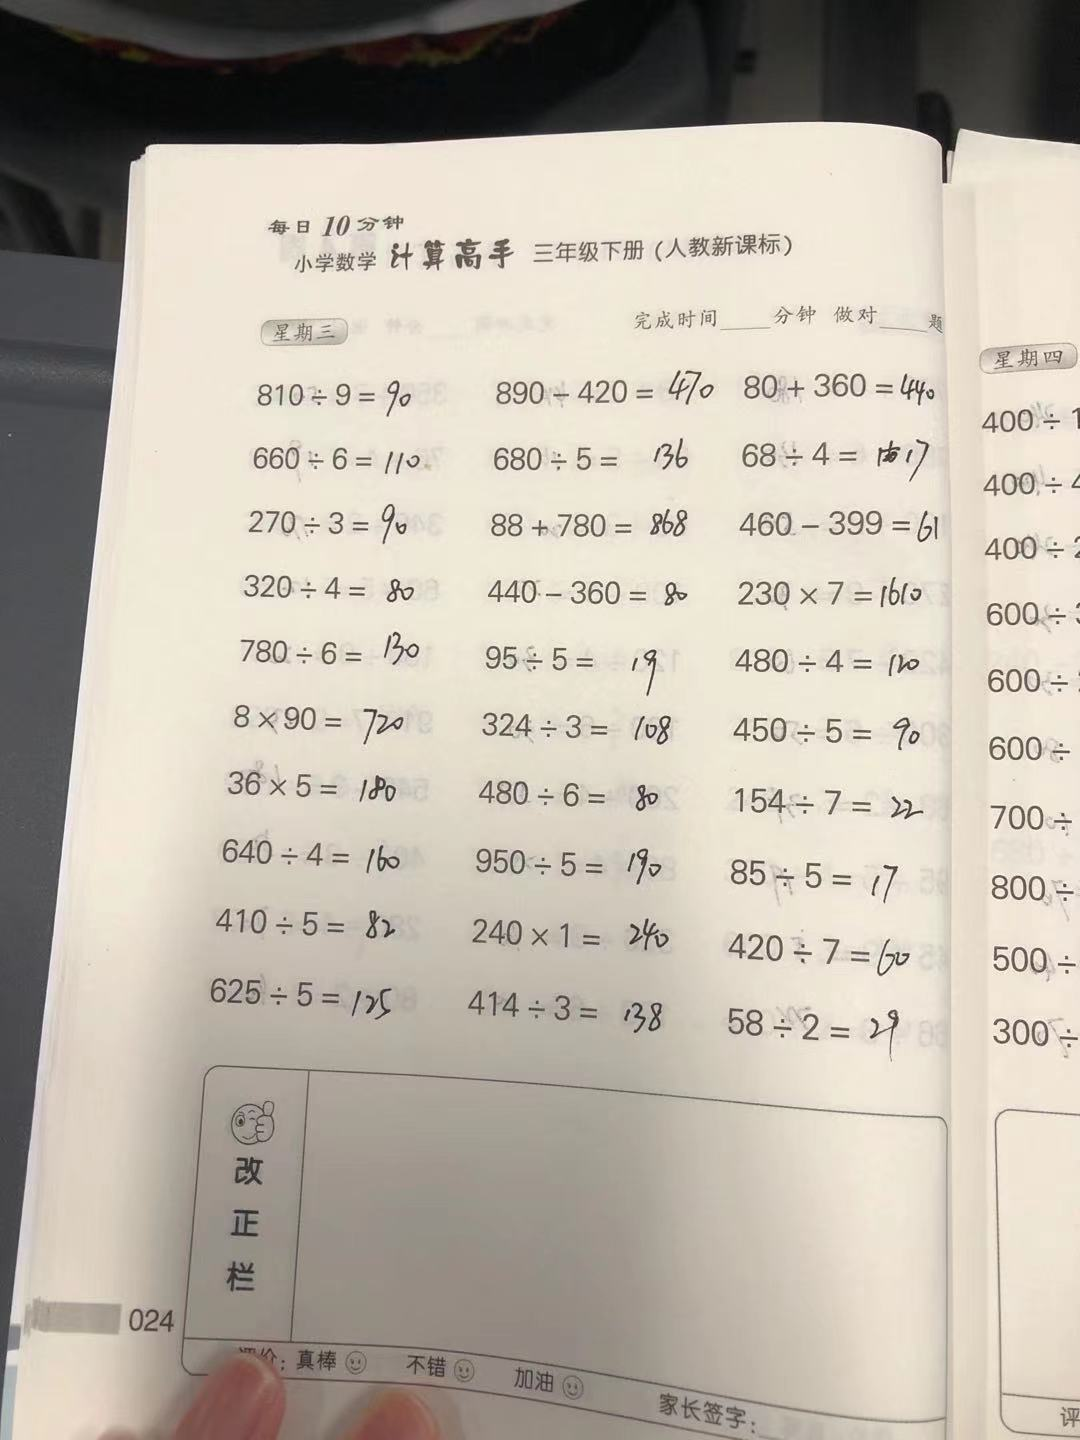equation: (461, 983, 681, 1040), (741, 355, 946, 413), (208, 969, 402, 1030), (743, 425, 950, 480), (470, 768, 687, 819), (210, 753, 432, 803), (731, 498, 952, 548), (467, 838, 672, 889), (208, 832, 416, 882), (213, 903, 413, 955), (471, 700, 693, 746), (718, 847, 930, 895), (467, 909, 676, 957), (481, 570, 700, 616), (733, 778, 928, 828), (475, 637, 706, 679), (490, 379, 736, 417), (481, 505, 695, 549), (242, 433, 438, 481), (716, 1005, 912, 1052), (732, 926, 921, 974), (223, 568, 434, 610), (235, 502, 431, 544), (233, 629, 438, 669), (233, 692, 423, 734), (491, 438, 706, 474), (239, 374, 434, 414), (737, 712, 929, 752), (735, 643, 927, 679), (739, 578, 929, 615)
